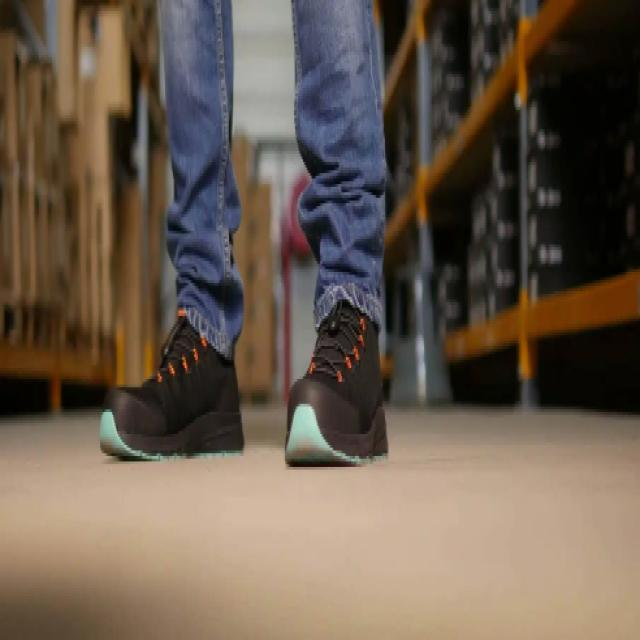shoes: (94, 284, 394, 471)
